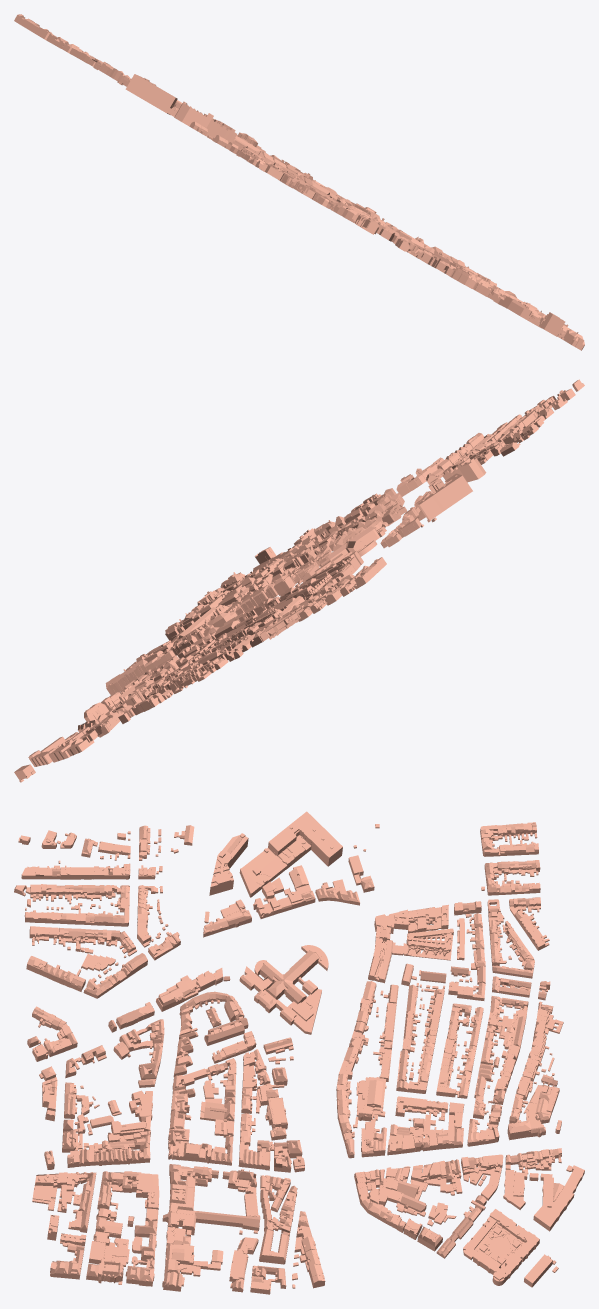
The picture shows the model from 3 angles, top to bottom: view 1: azimuth 30°, elevation 25°; view 2: azimuth 150°, elevation 25°; view 3: azimuth 270°, elevation 25°; orthographic projection. The views are drawn at different scales.
Size of the model in its own units: 511 by 396 by 659.
